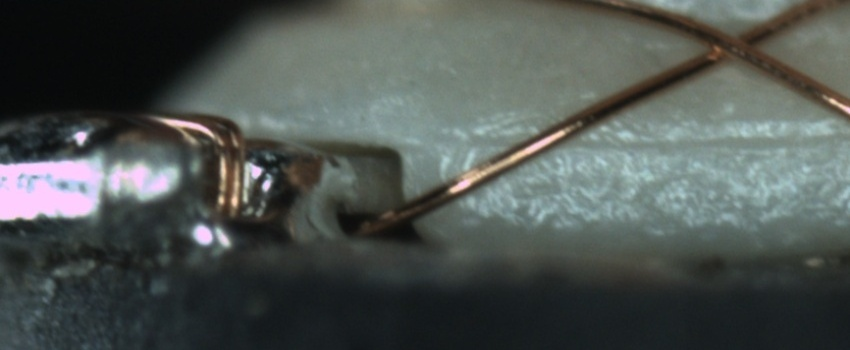CL: (691, 16, 778, 72)
DL: (472, 111, 849, 175)
TE: (115, 105, 251, 231)
